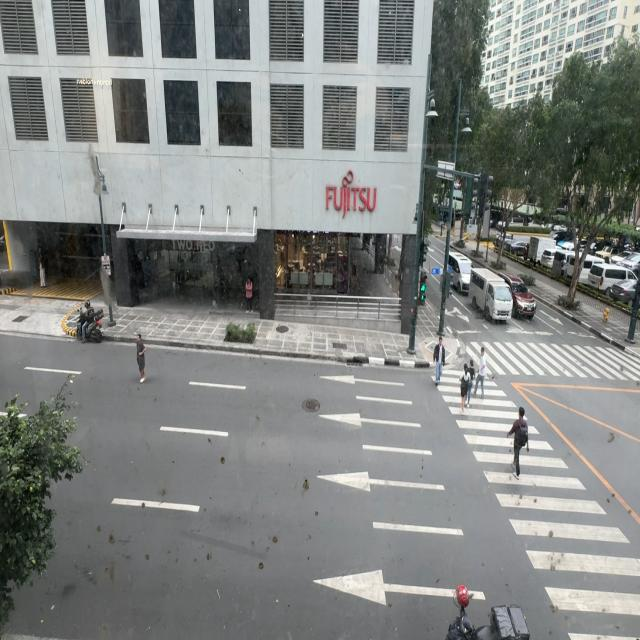crossing: (507, 406, 529, 477), (473, 350, 488, 400), (434, 337, 445, 386), (466, 360, 475, 402)
jaywalking: (134, 334, 146, 382)
